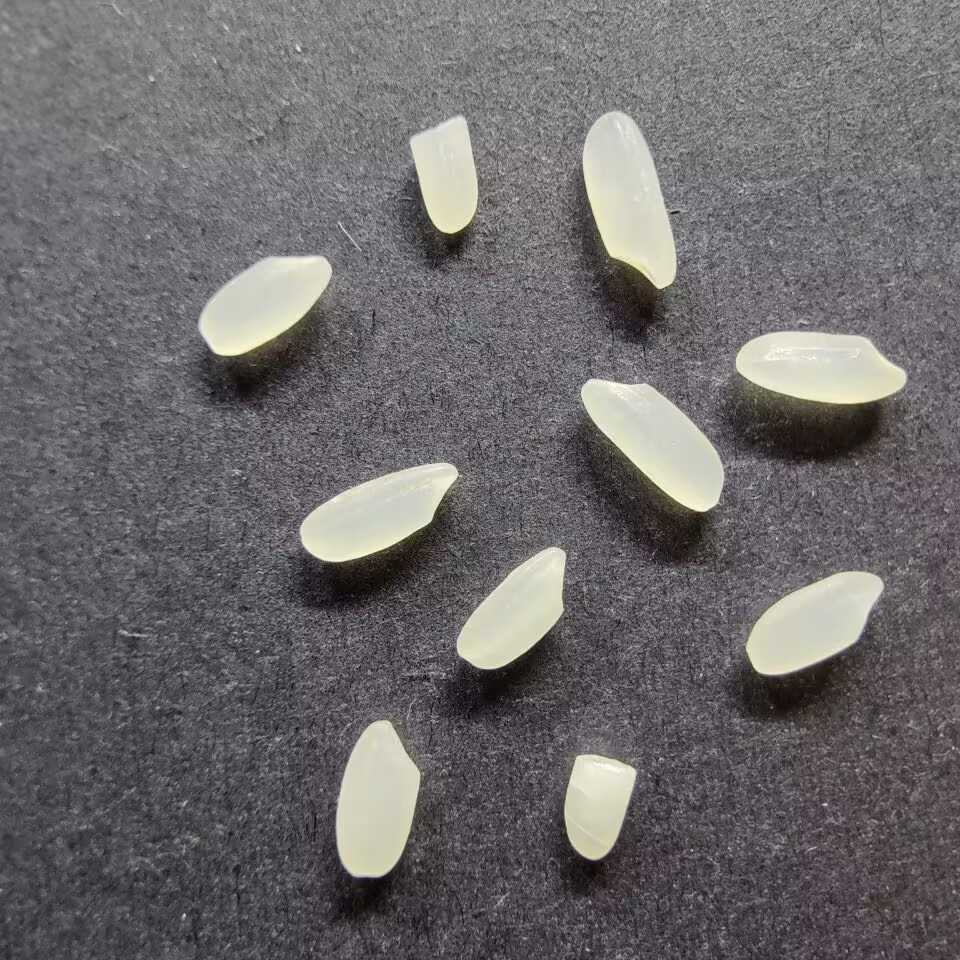broken: (404, 114, 480, 235), (560, 753, 639, 861)
rice: (579, 375, 726, 514), (579, 110, 679, 291), (298, 459, 459, 563), (742, 568, 885, 676), (453, 542, 567, 671), (332, 719, 422, 879), (196, 254, 334, 357), (733, 329, 907, 405)
